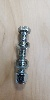FinishedAssembly: (14, 21, 32, 90)
